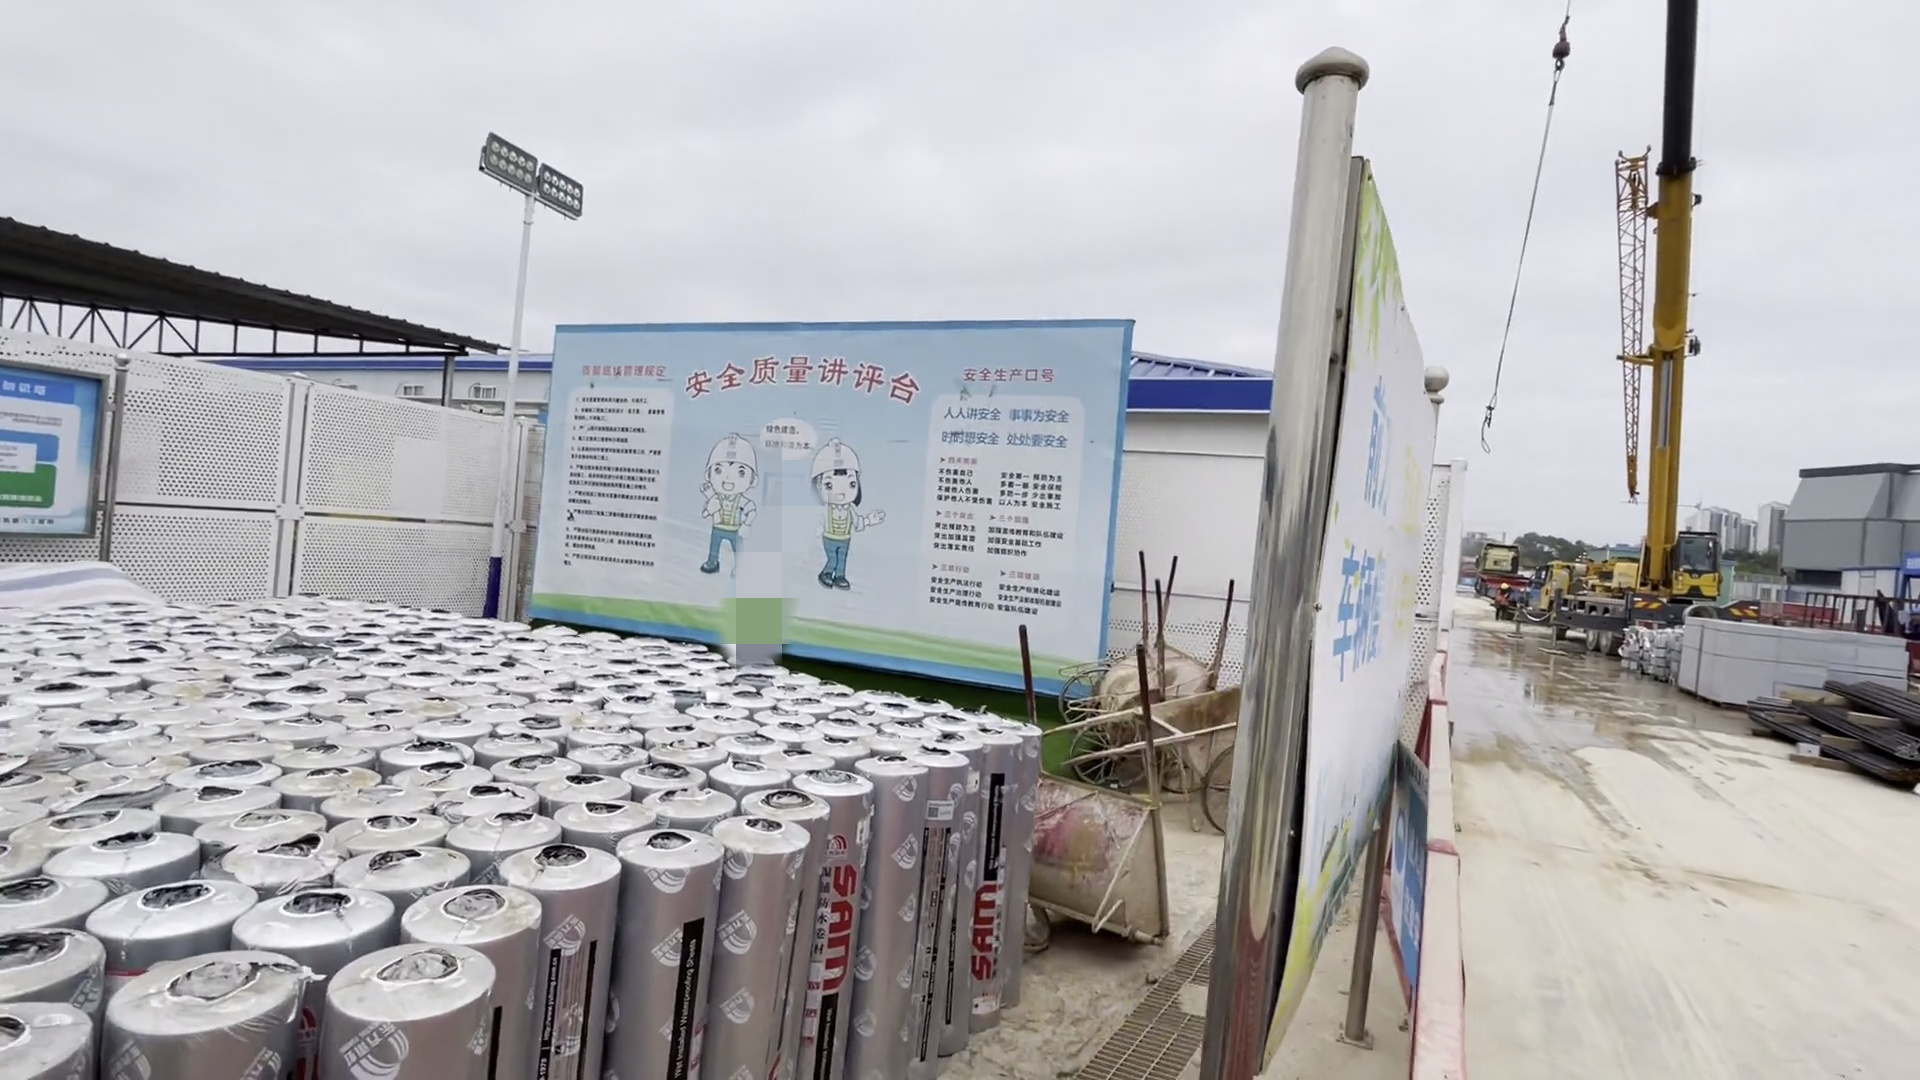brick: (1662, 618, 1902, 720)
